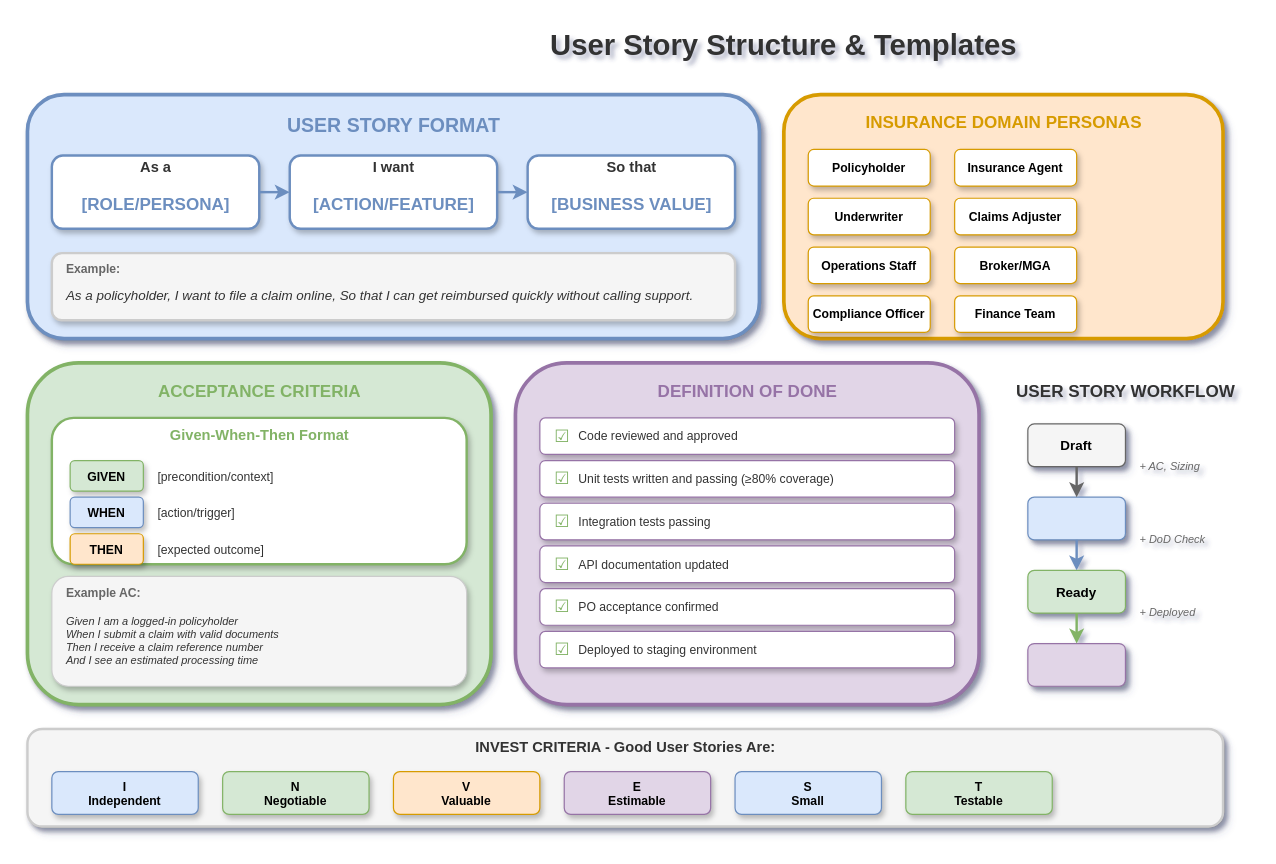
Image size: 1276x864. Some labels were removed from this diagram. The centre of each missing label's shape, as x and y in pixels:
Done: pixel 1077 666
Refined: pixel 1077 519
